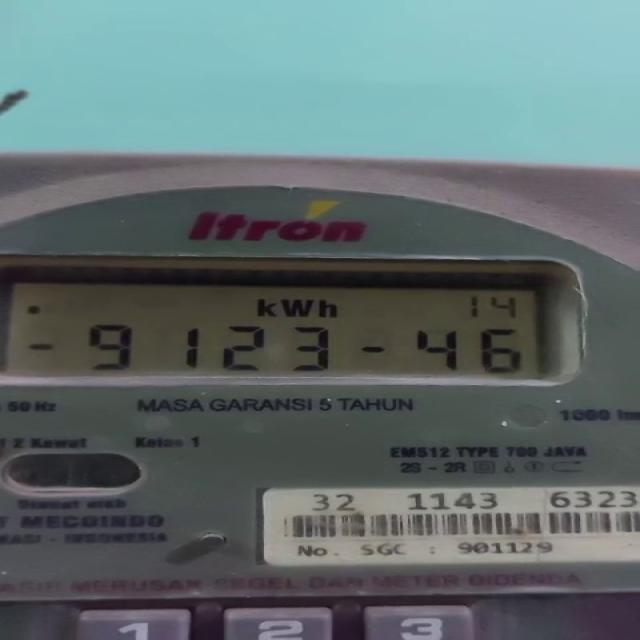LCD: (0, 251, 596, 392)
